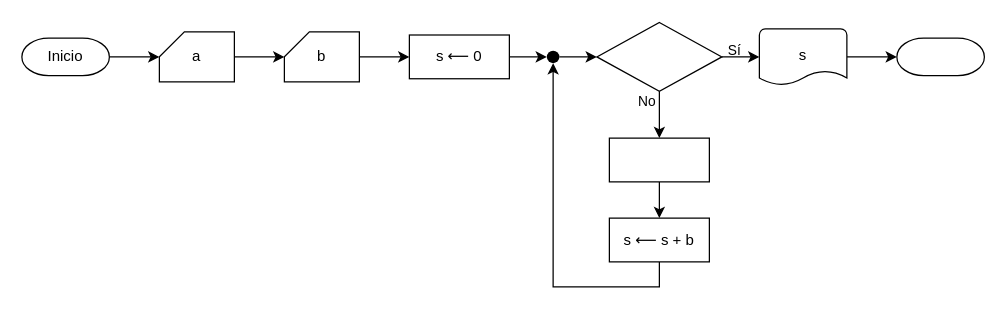
The diagram is 1006 pixels wide and 319 high, and some of its shapes have lost their labels. Each missing label, with the centre of its shape:
a = 0: (659,56)
a ⟵ a - 1: (658,159)
Fin: (940,56)
